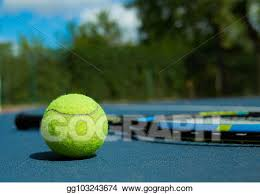tennis_ball: (42, 92, 108, 158)
